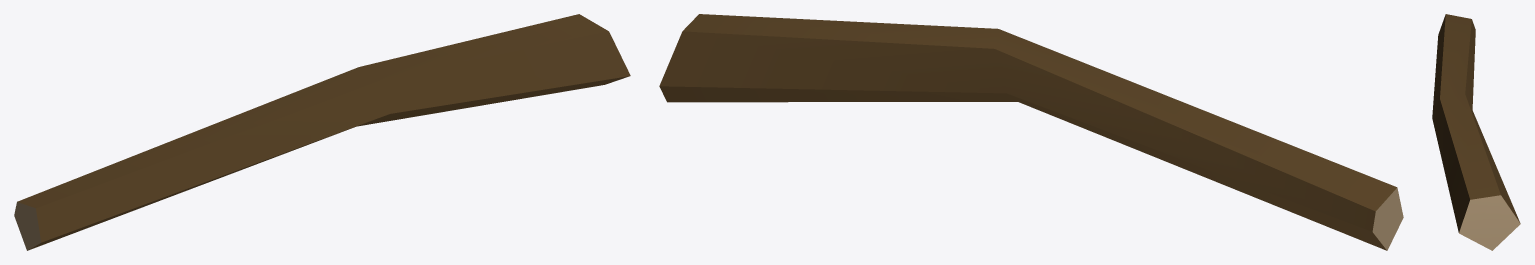
Rendered from Ground_detail_02.fbx.
3 renders of one model, left to right at view 1: azimuth 30°, elevation 25°; view 2: azimuth 150°, elevation 25°; view 3: azimuth 270°, elevation 25°, orthographic. The views are drawn at different scales.
Visible parts, largest first — view 1: pCylinder1; view 2: pCylinder1; view 3: pCylinder1.
Boxes of the visible parts, x1=… form: pCylinder1: x1=14, y1=14, x2=630, y2=250; pCylinder1: x1=659, y1=14, x2=1403, y2=250; pCylinder1: x1=1432, y1=14, x2=1520, y2=250.
Bounding box in the file's own units: 73.27 × 11.38 × 13.42.
